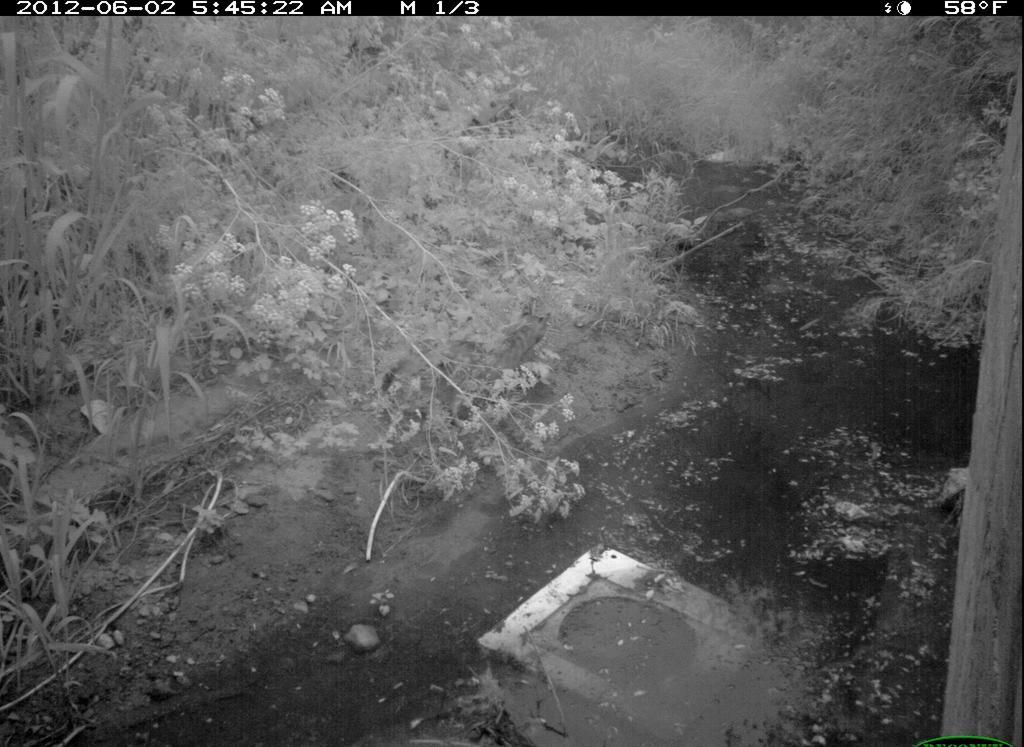bobcat: (374, 296, 557, 433)
